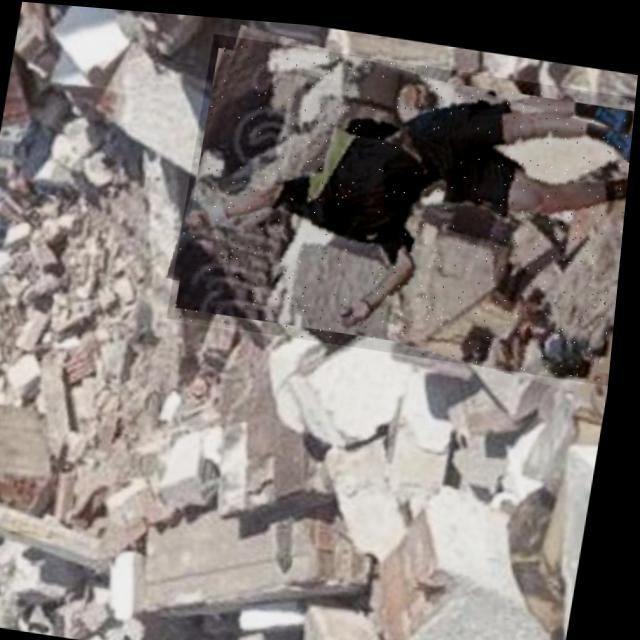Person in Rubble: (170, 27, 639, 373)
